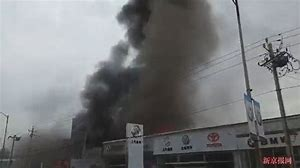smoke: (75, 1, 216, 127)
